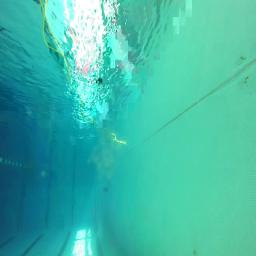Full: (102, 187, 108, 191)
